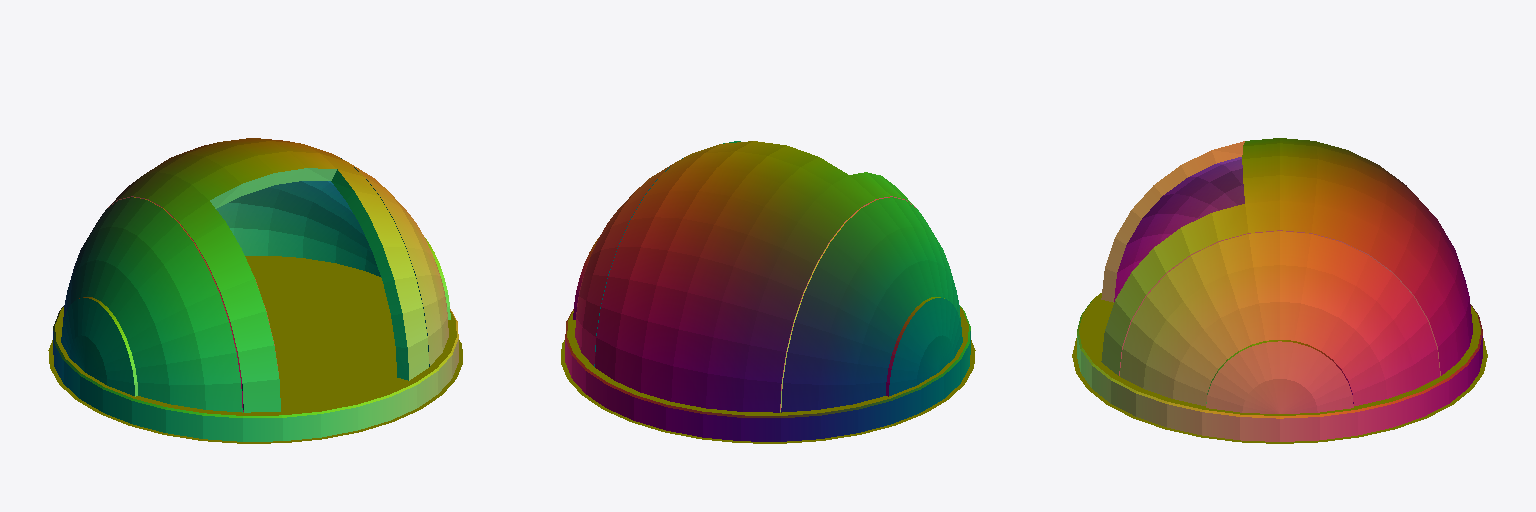
The picture shows the model from 3 angles: view 1: azimuth 30°, elevation 25°; view 2: azimuth 150°, elevation 25°; view 3: azimuth 270°, elevation 25°; orthographic projection.
Visible parts, largest first — view 1: part_MissileTurretBase1_Circle.001; view 2: part_MissileTurretBase1_Circle.001; view 3: part_MissileTurretBase1_Circle.001.
Part boxes in pixels (x1,y1,x2,y2): part_MissileTurretBase1_Circle.001: (48, 138, 462, 443); part_MissileTurretBase1_Circle.001: (561, 141, 975, 443); part_MissileTurretBase1_Circle.001: (1072, 138, 1487, 443).
Size of the model in its own units: 6.72 by 3.57 by 6.72.
Materials: 1 (1 with a texture image).